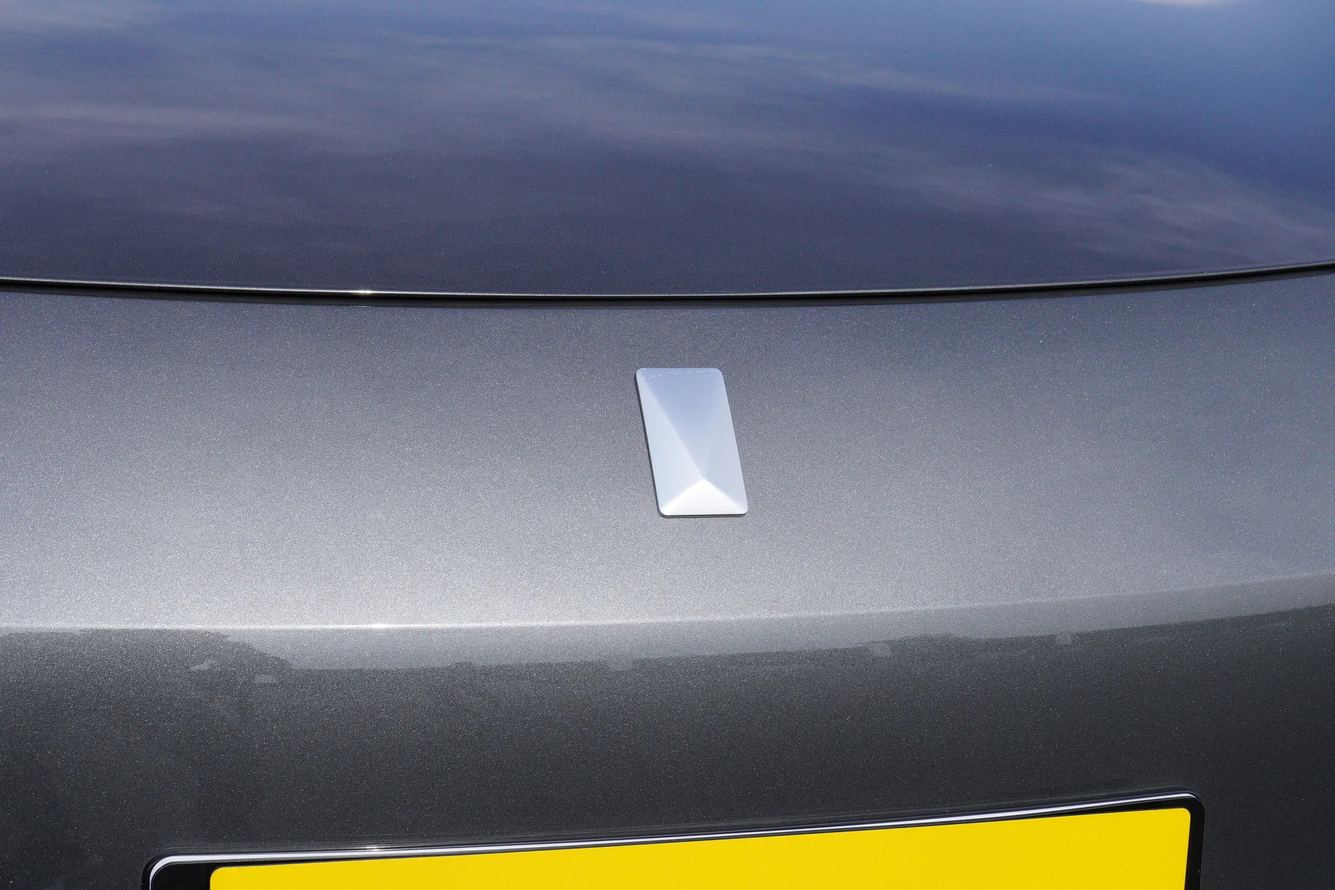AVATR: (635, 368, 748, 517)
